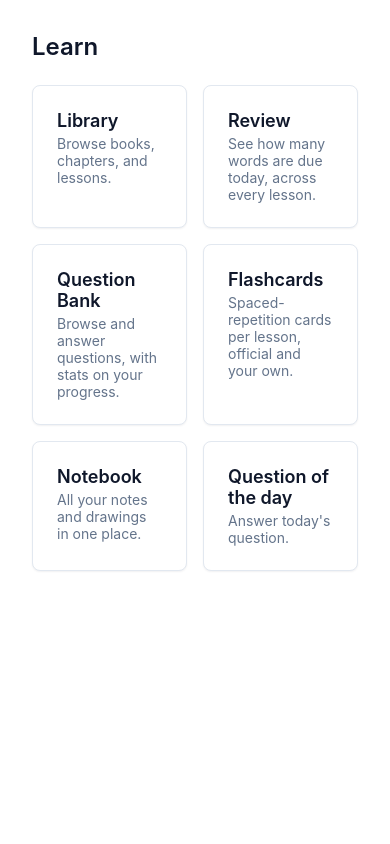
the hub card reopens it after it was dismissed
This screenshot has width=390, height=844.
Expected: the text "Answer today's question." is shown, [228,512,333,546]
Expected: the text "Check answer" is not shown
Click the text "Question of the day" at (280, 487), box [228,466,333,508]
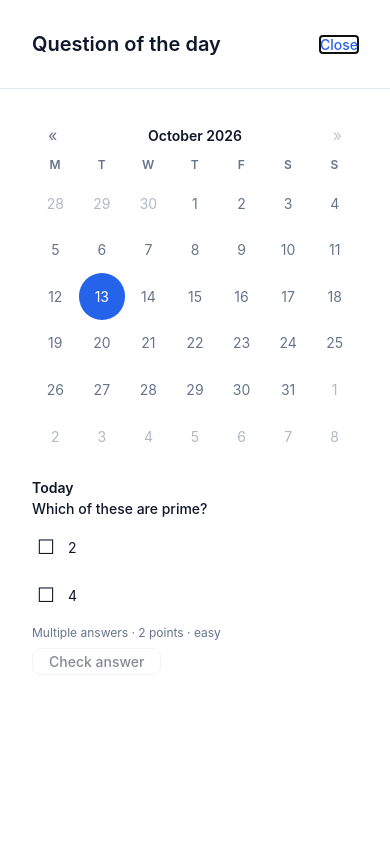
Result: the text "Check answer" is shown at [49,653,144,670]
